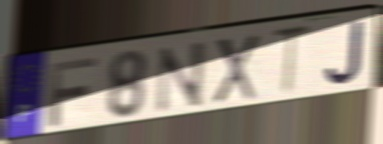8: (106, 47, 148, 120)
F: (47, 54, 100, 129)
J: (324, 18, 365, 87)
N: (153, 38, 208, 116)
T: (270, 22, 315, 99)
X: (211, 31, 260, 107)
